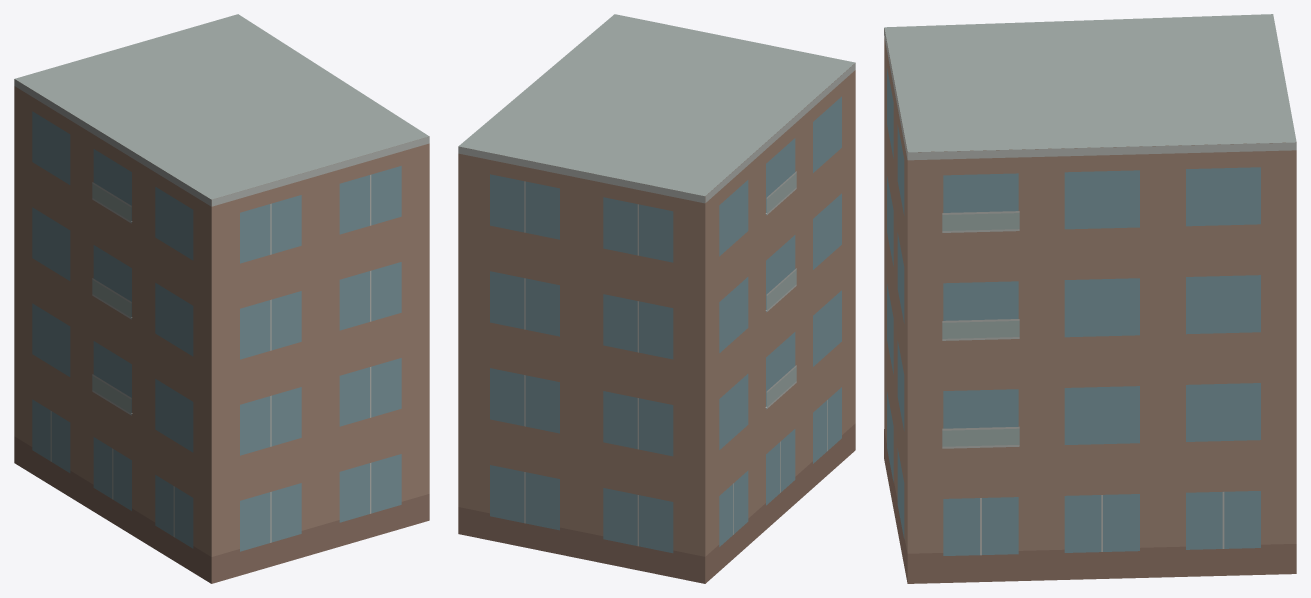
Rendered from survey-upis-32743743.glb.
The picture shows the model from 3 angles, left to right: view 1: azimuth 30°, elevation 25°; view 2: azimuth 150°, elevation 25°; view 3: azimuth 270°, elevation 25°; orthographic projection. The views are drawn at different scales.
Visible parts, largest first — view 1: survey-upis-32743743.tmp; view 2: survey-upis-32743743.tmp; view 3: survey-upis-32743743.tmp.
Boxes of the visible parts, <box> form: survey-upis-32743743.tmp: <box>14,14,429,583</box>; survey-upis-32743743.tmp: <box>458,14,855,583</box>; survey-upis-32743743.tmp: <box>884,14,1296,583</box>.
Size of the model in its own units: 9.12 by 13.25 by 11.49.
